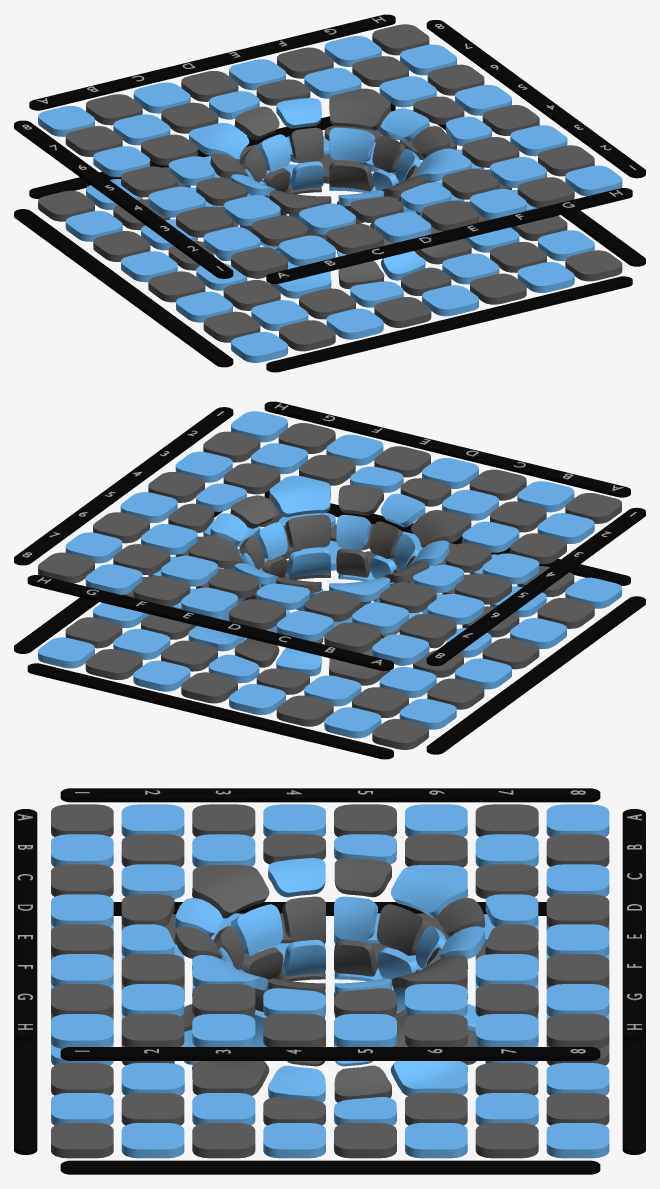
File: WormWholeChess_FINAL - copia.glb
The picture shows the model from 3 angles, top to bottom: view 1: azimuth 30°, elevation 25°; view 2: azimuth 150°, elevation 25°; view 3: azimuth 270°, elevation 25°; orthographic projection. The views are drawn at different scales.
Visible parts, largest first — view 1: h.008, h, h.001, h.010, h.002, h.003, f3_T.004, f3_T.003, h.011, e4_1_T.004, h1_T.007, h1_T.005 (+93 smaller); view 2: h.009, h.001, h, h.010, h.003, h.002, f3_T, f3_T.002, h.011, e4_1_T, f1_T.006, g1_T.006 (+94 smaller); view 3: h.011, h.002, h.003, h.001, h, f3_T.002, f3_T.003, h.008, h.009, f3_T.007, f3_T.008, h2_T.007 (+88 smaller).
Boxes of the visible parts, x1,y1,x2,y2 form: h.008: (266,276,632,372); h: (266,188,632,283); h.001: (29,14,395,110); h.010: (14,209,233,367); h.002: (14,120,233,278); h.003: (426,20,645,178); f3_T.004: (329,88,390,130); f3_T.003: (189,123,249,160); h.011: (437,124,645,266); e4_1_T.004: (329,127,374,162); h1_T.007: (565,250,622,281); h1_T.005: (231,332,287,362); h.009: (27,663,393,759); h.001: (27,575,393,670); h: (264,401,630,497); h.010: (426,596,645,754); h.003: (14,407,233,565); h.002: (426,507,645,666); f3_T: (269,475,330,517); f3_T.002: (411,510,471,547); h.011: (14,511,222,653); e4_1_T: (285,514,331,549); f1_T.006: (276,695,333,726); g1_T.006: (324,707,381,738); h.011: (60,1160,600,1174); h.002: (60,788,600,802); h.003: (60,1047,600,1060); h.001: (622,809,645,1041); h: (14,809,37,1041); f3_T.002: (192,865,269,918); f3_T.003: (390,865,468,918); h.008: (14,1037,37,1154); h.009: (622,1037,645,1154); f3_T.007: (192,1061,269,1095); f3_T.008: (390,1061,468,1095); h2_T.007: (121,1123,184,1158).
Bounding box in the file's own units: 9.66 × 2.01 × 9.61.
